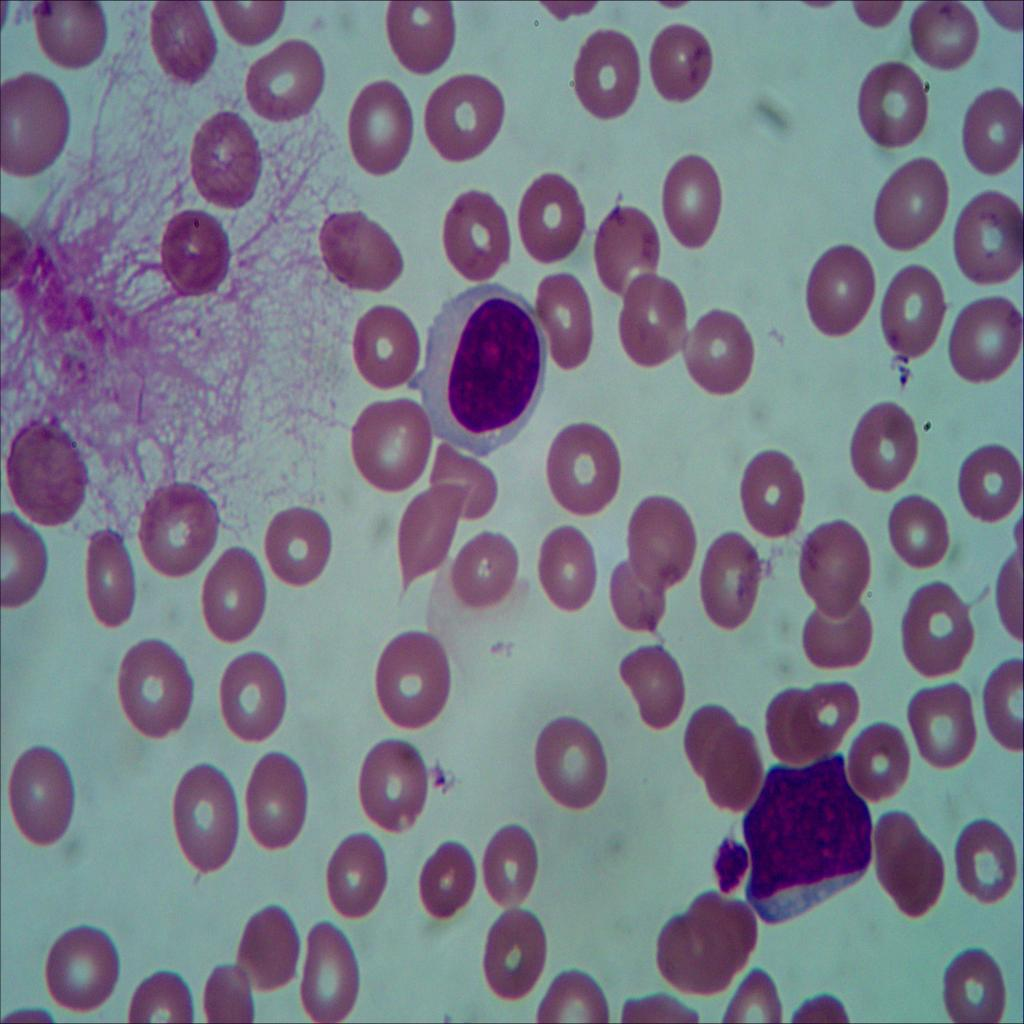Eritrosit: (0, 412, 92, 526), (888, 577, 979, 688), (341, 392, 435, 492), (111, 636, 197, 745), (843, 392, 925, 504), (936, 289, 1024, 390), (845, 64, 937, 160), (863, 154, 954, 250), (528, 257, 602, 374), (950, 178, 1024, 295), (134, 482, 220, 582), (170, 756, 241, 877), (805, 227, 875, 349), (153, 198, 233, 304), (350, 734, 432, 837), (474, 898, 553, 1002), (798, 518, 874, 626), (0, 73, 77, 179), (540, 426, 628, 518), (184, 112, 266, 210), (570, 30, 650, 130), (418, 73, 504, 166), (526, 712, 610, 807), (39, 922, 122, 1016), (239, 747, 311, 855), (624, 495, 705, 591), (874, 812, 945, 921), (441, 181, 515, 285), (339, 75, 415, 176), (316, 202, 403, 290), (949, 807, 1024, 909), (374, 628, 452, 725), (907, 687, 984, 785), (654, 146, 725, 252), (346, 298, 428, 389), (9, 747, 78, 855), (686, 302, 757, 404), (925, 938, 1009, 1024), (215, 650, 291, 745), (296, 922, 366, 1024), (615, 256, 682, 362), (196, 547, 272, 639), (658, 915, 734, 1007), (398, 480, 460, 590), (77, 520, 140, 628), (620, 639, 688, 739), (423, 444, 506, 525), (244, 38, 324, 122), (514, 172, 587, 264), (226, 904, 302, 992), (33, 0, 122, 75), (958, 439, 1024, 539), (738, 446, 808, 540), (882, 270, 946, 372), (797, 588, 870, 677), (453, 523, 518, 622), (592, 202, 661, 294), (960, 89, 1024, 187), (684, 885, 762, 964), (537, 516, 597, 616), (698, 533, 759, 631), (145, 0, 216, 84), (415, 831, 478, 923), (475, 818, 540, 907), (256, 509, 332, 585), (384, 0, 455, 81), (702, 726, 770, 809), (849, 716, 909, 810), (609, 554, 675, 638), (910, 0, 980, 76), (649, 24, 713, 106), (332, 830, 388, 922), (894, 489, 950, 574), (798, 680, 856, 762), (762, 677, 809, 768), (680, 698, 736, 774), (196, 966, 255, 1024)
Limfoblast: (712, 760, 874, 922), (414, 276, 549, 465)
